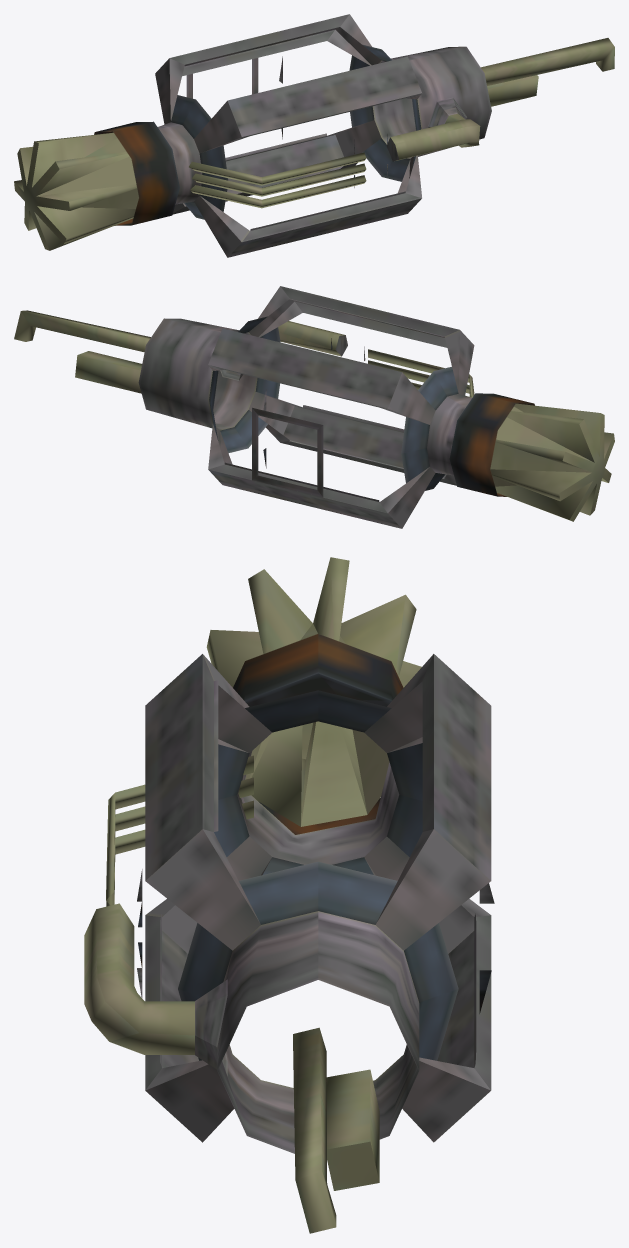
File: ship_component_engine_s02_l2.fbx
3 views of the same model, one above another, from view 1: azimuth 30°, elevation 25°; view 2: azimuth 150°, elevation 25°; view 3: azimuth 270°, elevation 25° (orthographic). The views are drawn at different scales.
Visible parts, largest first — view 1: mesh_node; view 2: mesh_node; view 3: mesh_node.
Boxes of the visible parts, left/top/right/bottom form: mesh_node: left=14, top=14, right=614, bottom=257; mesh_node: left=14, top=286, right=614, bottom=528; mesh_node: left=84, top=557, right=494, bottom=1233.
Bounding box in the file's own units: 3.56 × 0.9777 × 1.29.
1 material, 1 textured.
